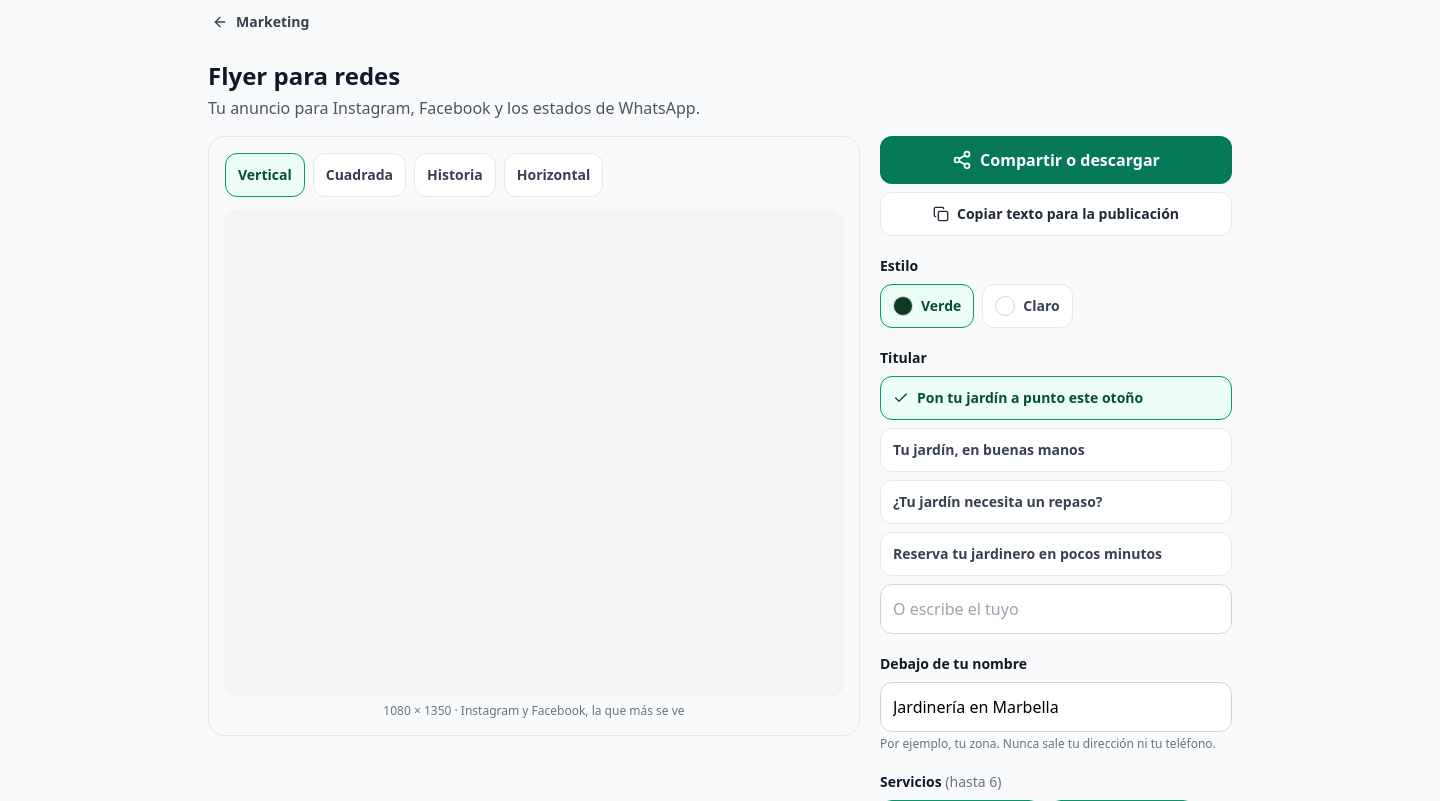
Scenario: MaterialEditor › descarga varios tamaños a la vez, un PNG por tamaño, y lo apunta
The width and height of the screenshot is (1440, 801).
Later steps or results of the test are not shown.
Click the button "Compartir o descargar" at (1056, 160), box 880,136 -> 1232,184
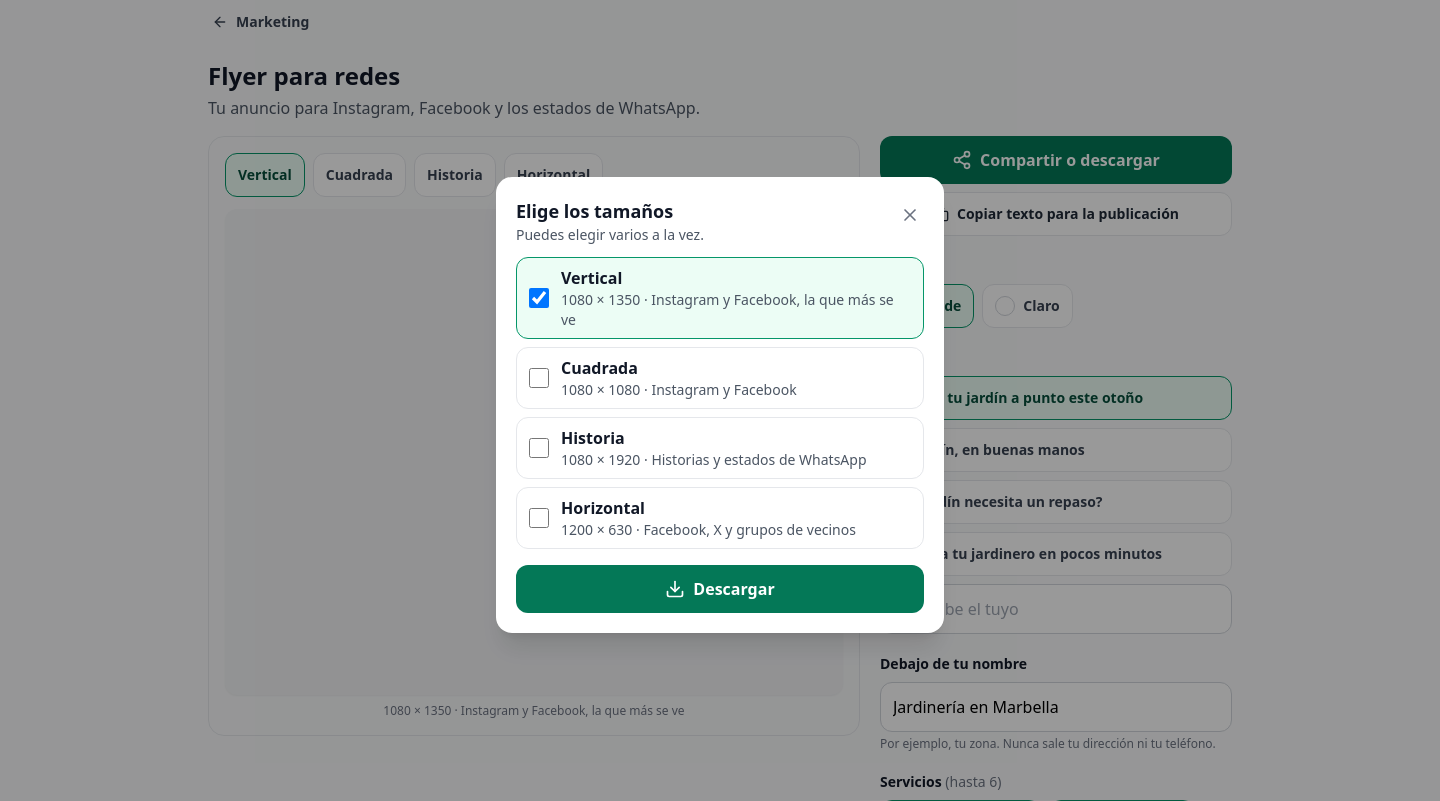
Expected: the dialog "Elige los tamaños" is shown, 496,177 -> 944,633
